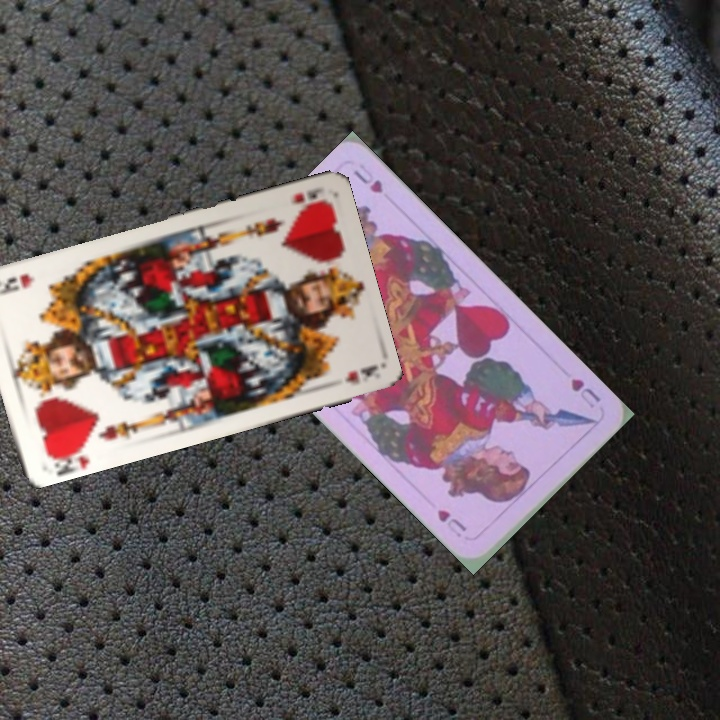HK: (42, 438, 92, 475), (287, 183, 325, 207)
HU: (567, 374, 604, 411)
